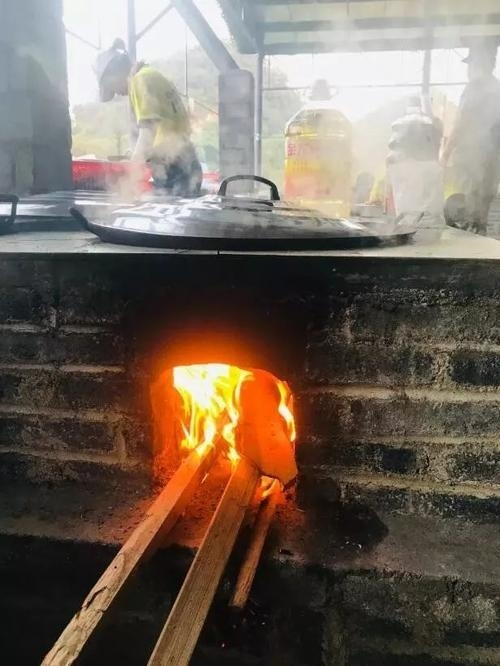fire: (168, 358, 249, 465), (275, 376, 297, 439)
